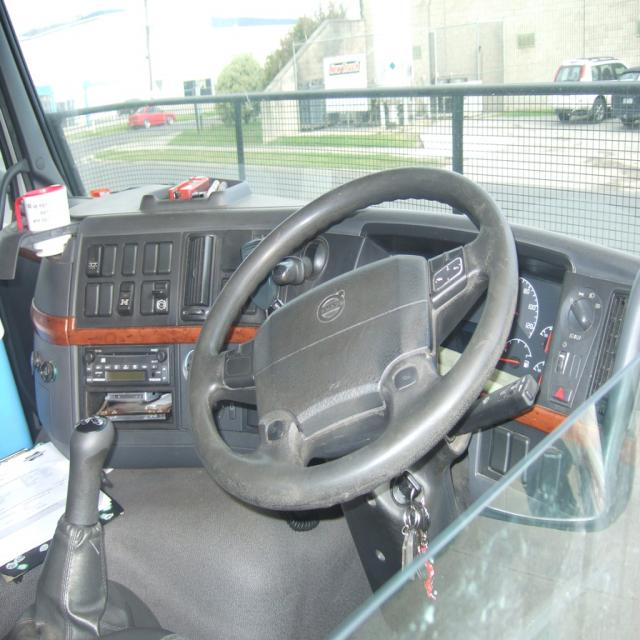other: (0, 0, 639, 638), (540, 47, 640, 124), (610, 64, 639, 127)
